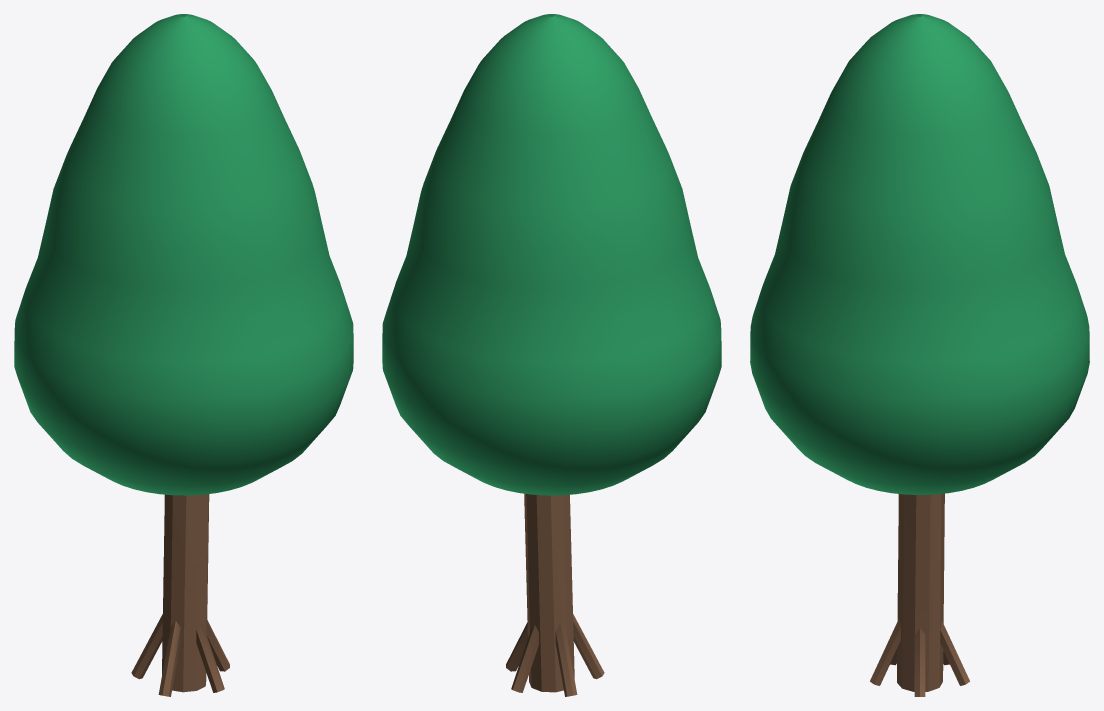
File: tree.glb
3 renders of one model, left to right at view 1: azimuth 30°, elevation 25°; view 2: azimuth 150°, elevation 25°; view 3: azimuth 270°, elevation 25°, orthographic.
Parts seen in each view (by area): view 1: rounded canopy, trunk; view 2: rounded canopy, trunk; view 3: rounded canopy, trunk.
Boxes of the visible parts, left/top/right/bottom form: rounded canopy: left=14, top=14, right=353, bottom=495; trunk: left=131, top=494, right=229, bottom=696; rounded canopy: left=382, top=14, right=721, bottom=495; trunk: left=506, top=493, right=604, bottom=696; rounded canopy: left=750, top=14, right=1089, bottom=494; trunk: left=870, top=493, right=969, bottom=696.
Bounding box in the file's own units: 1.06 × 2.29 × 1.06.
